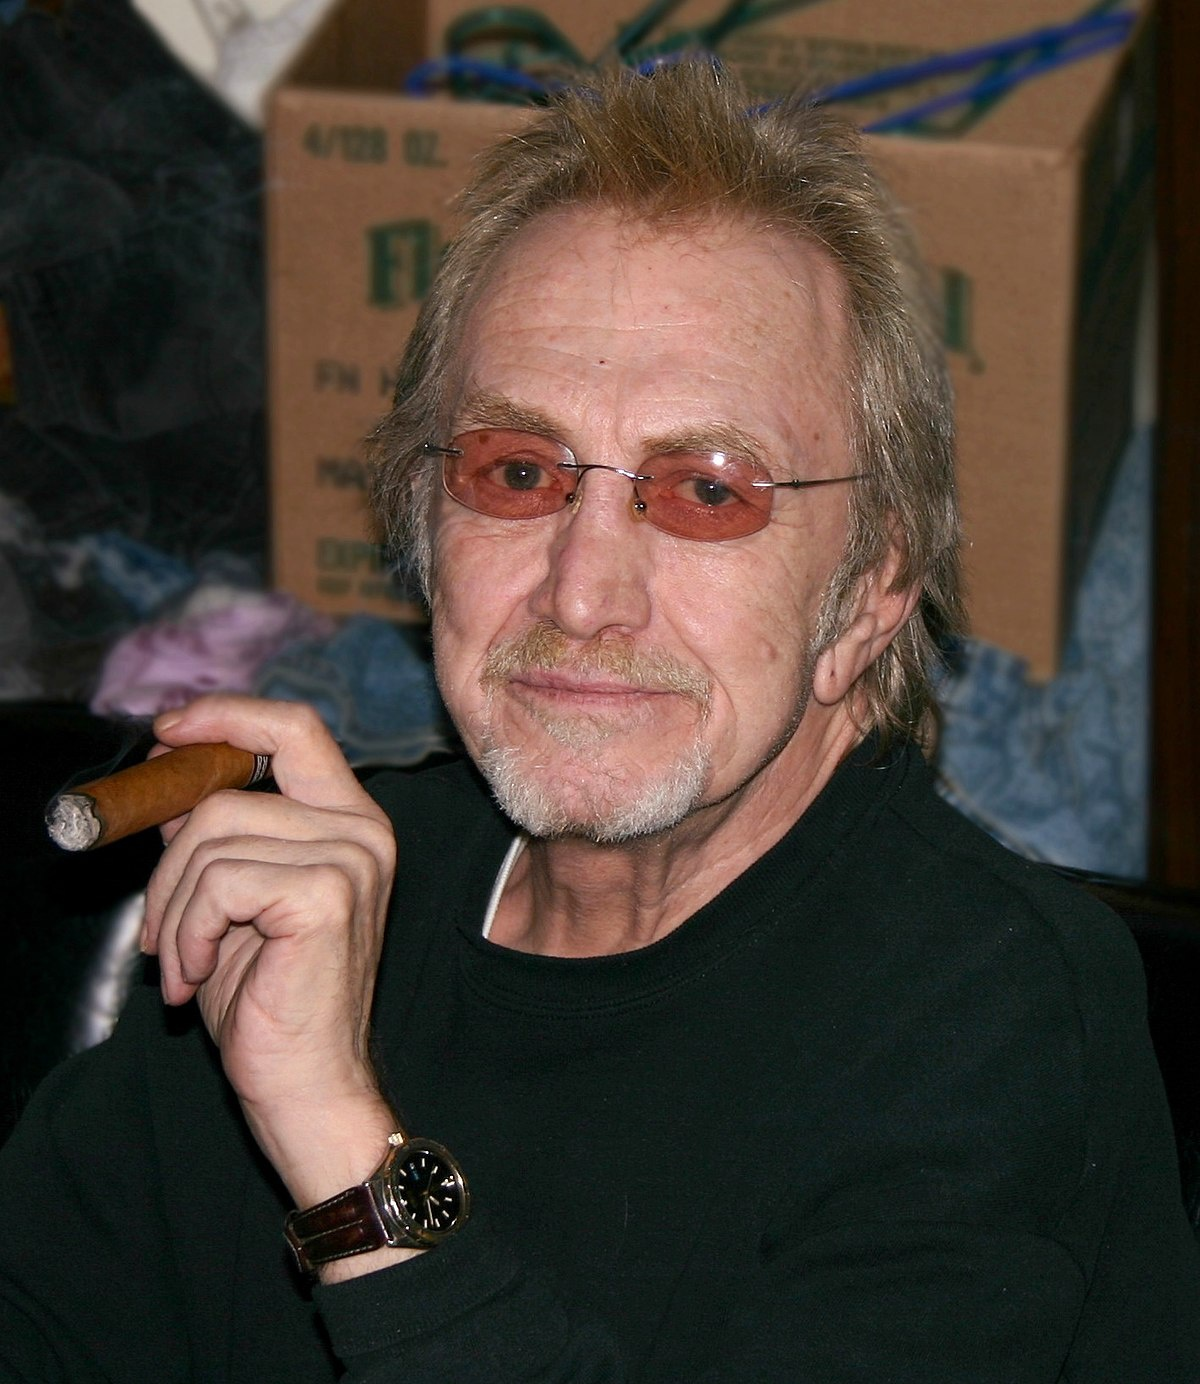bad: (399, 348, 861, 811)
